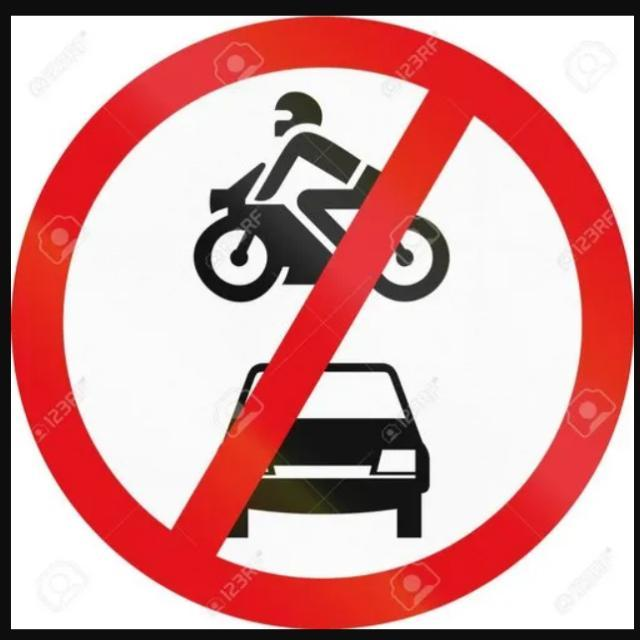all motor vehicle prohibited: (19, 23, 626, 625)
